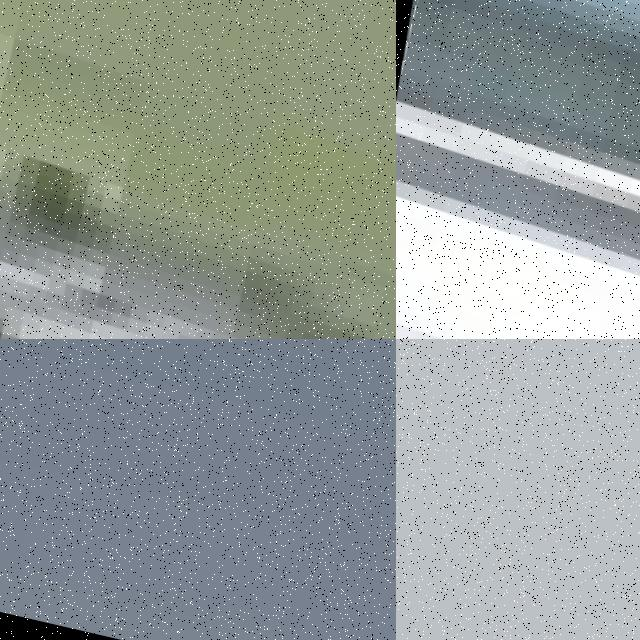0: (0, 0, 396, 339)
drone: (396, 0, 640, 339)
